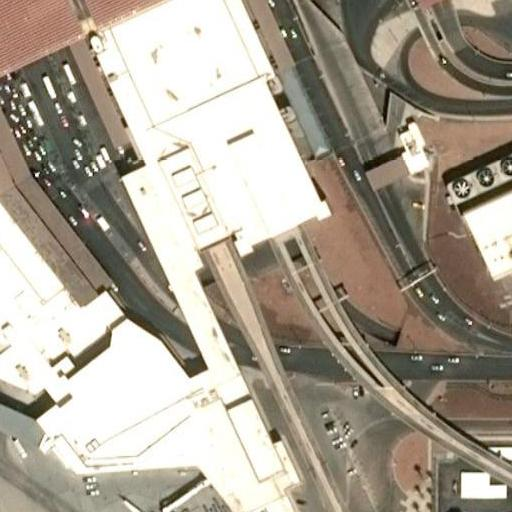Aircraft: (103, 490, 178, 512)
